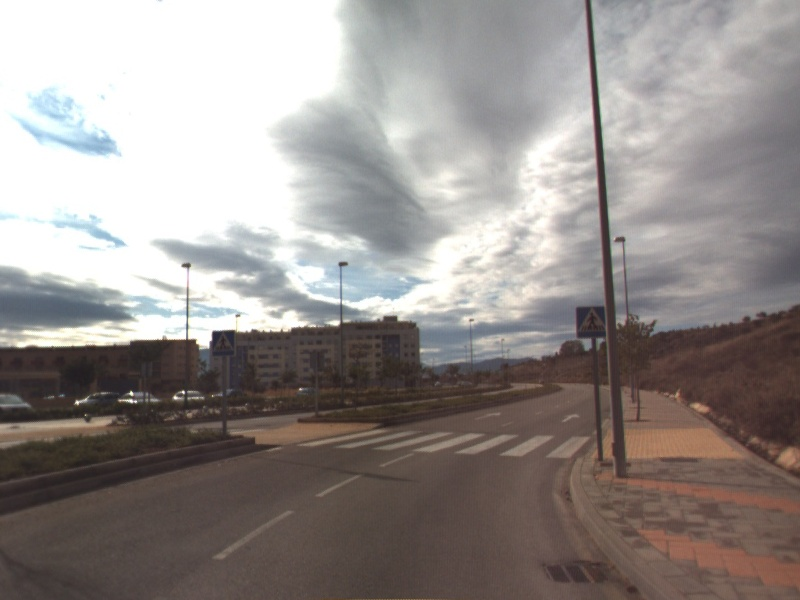STRAIGHT: (472, 409, 503, 422), (559, 412, 582, 424)
